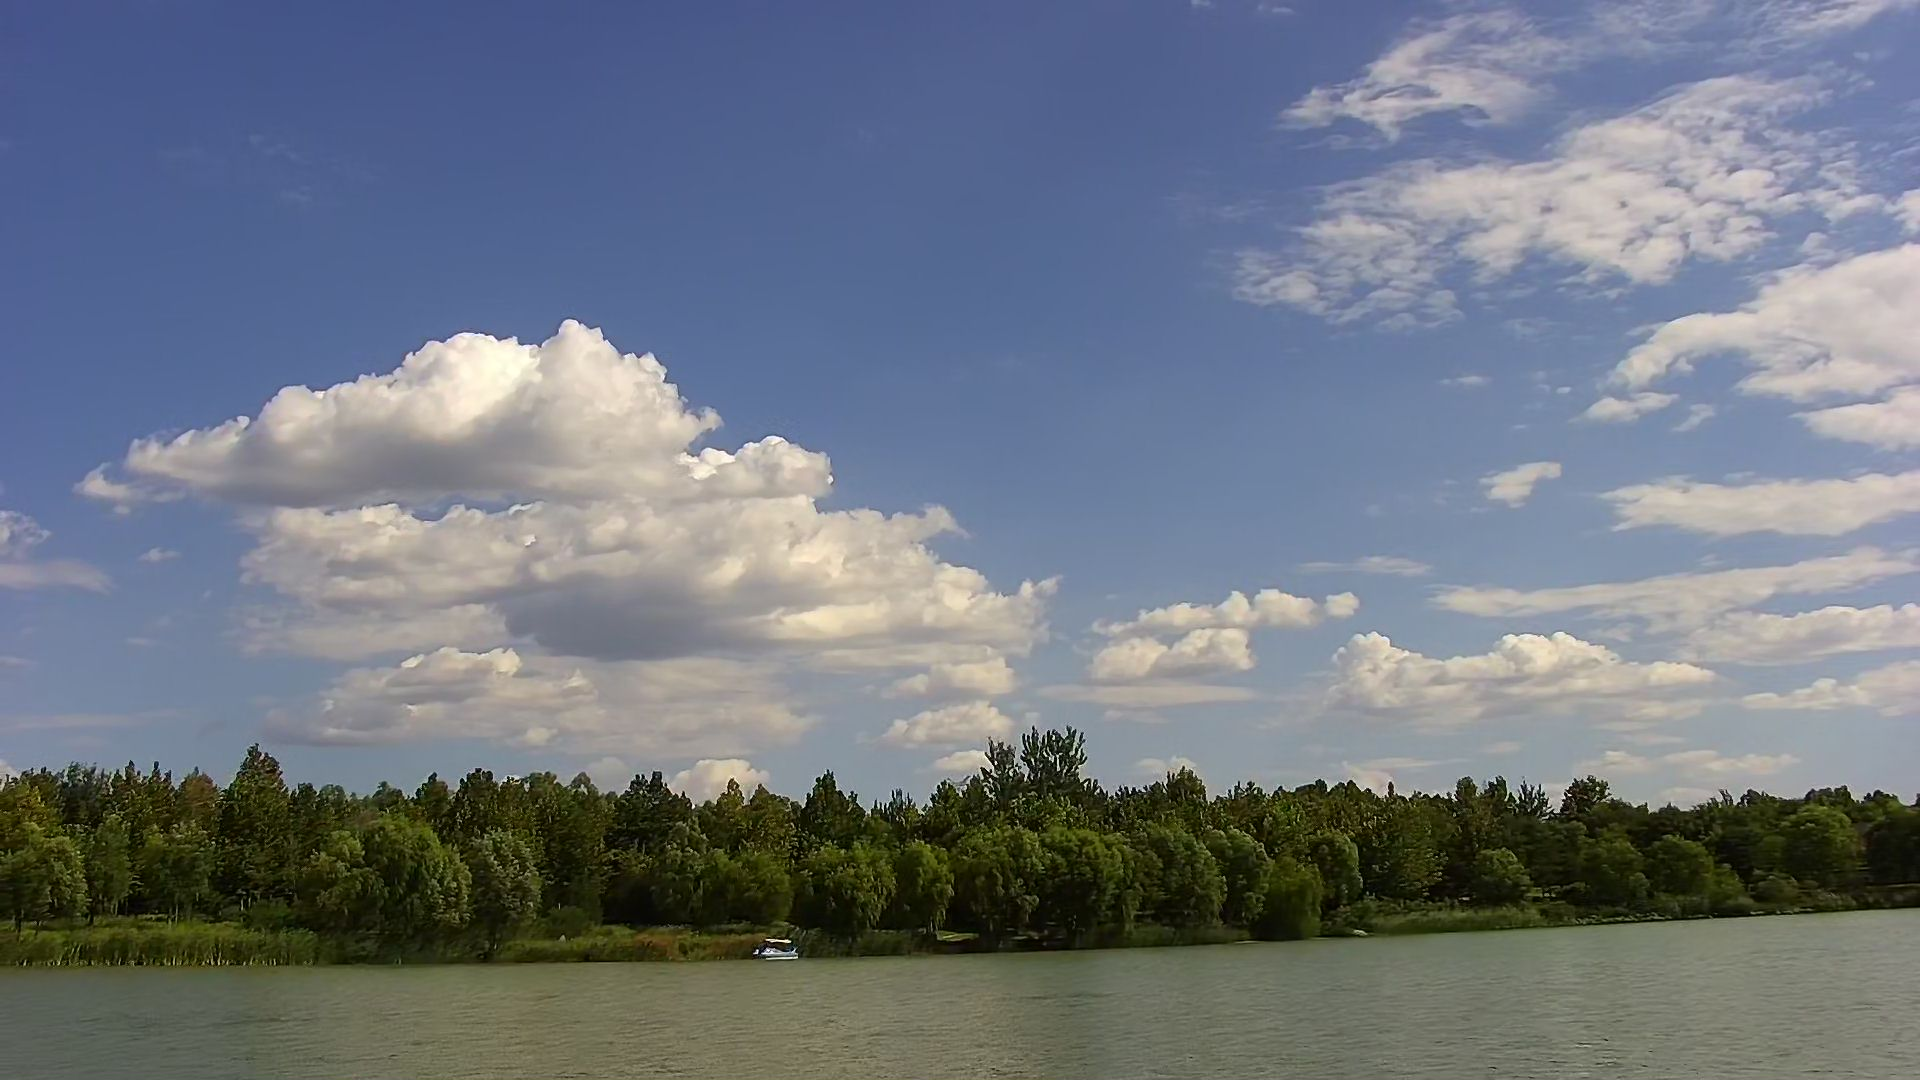boat: (746, 935, 802, 967)
